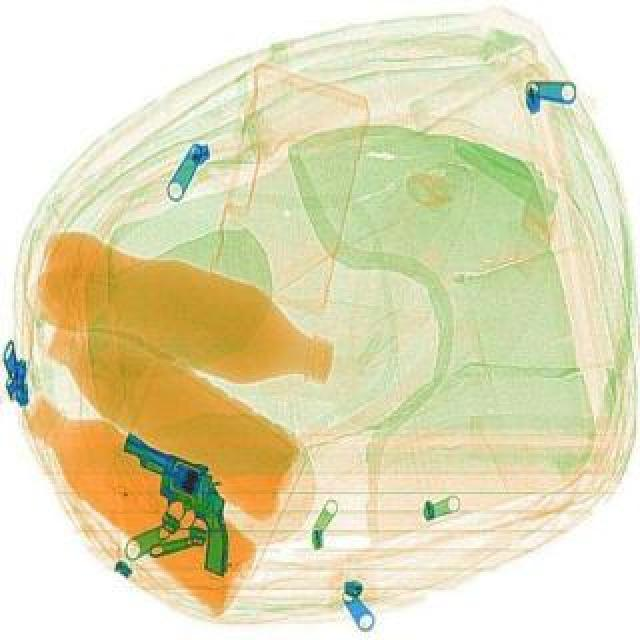gun: (114, 406, 264, 582)
